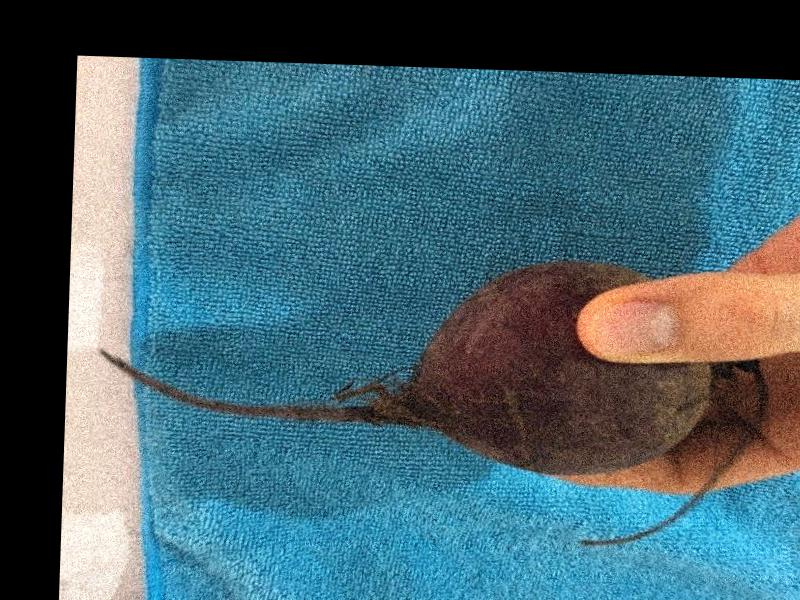Beet: (90, 244, 770, 549)
